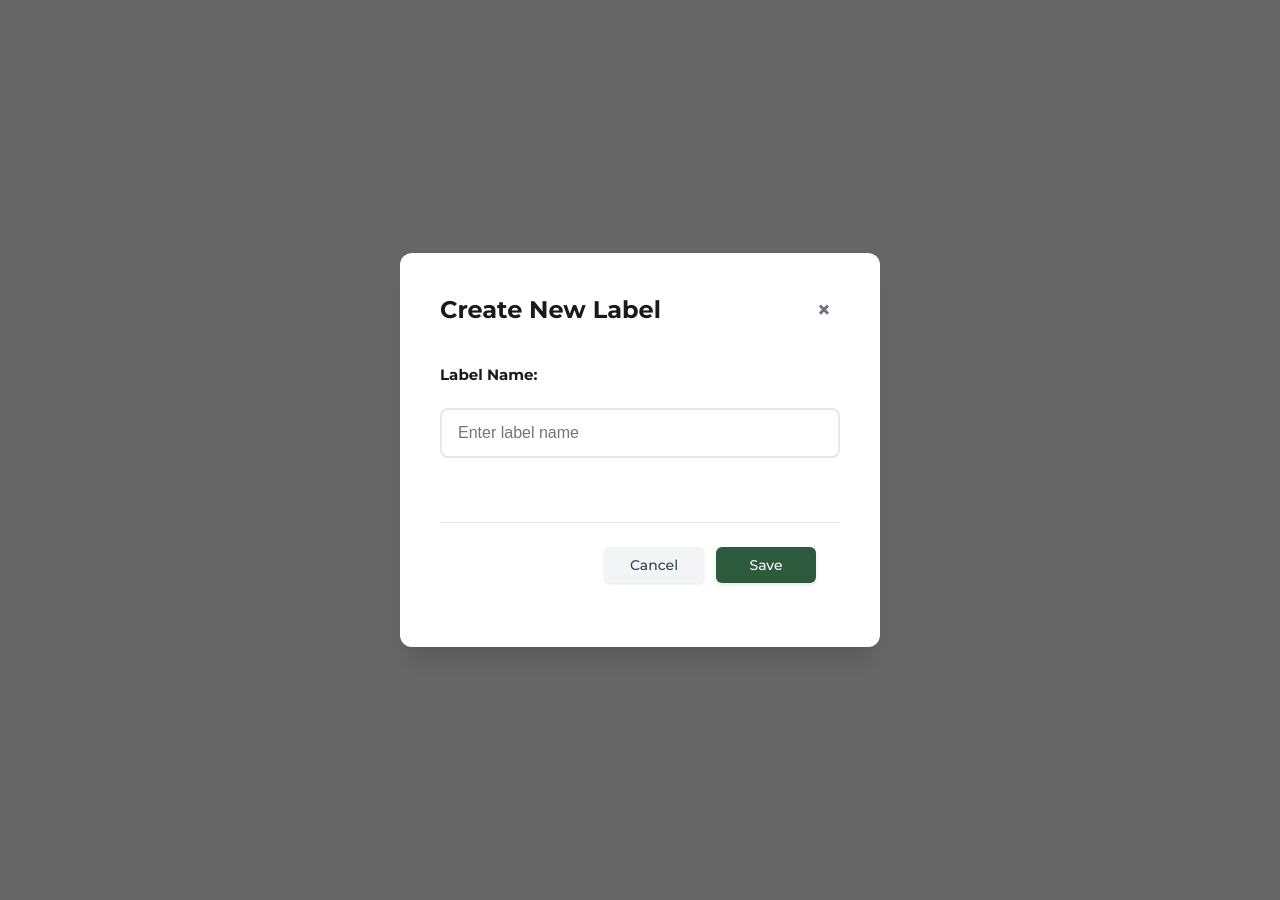
Test: LabelModal › limpa o erro ao digitar novo nome após erro
Click the button "Save" at (766, 565), box [716,547,816,583]
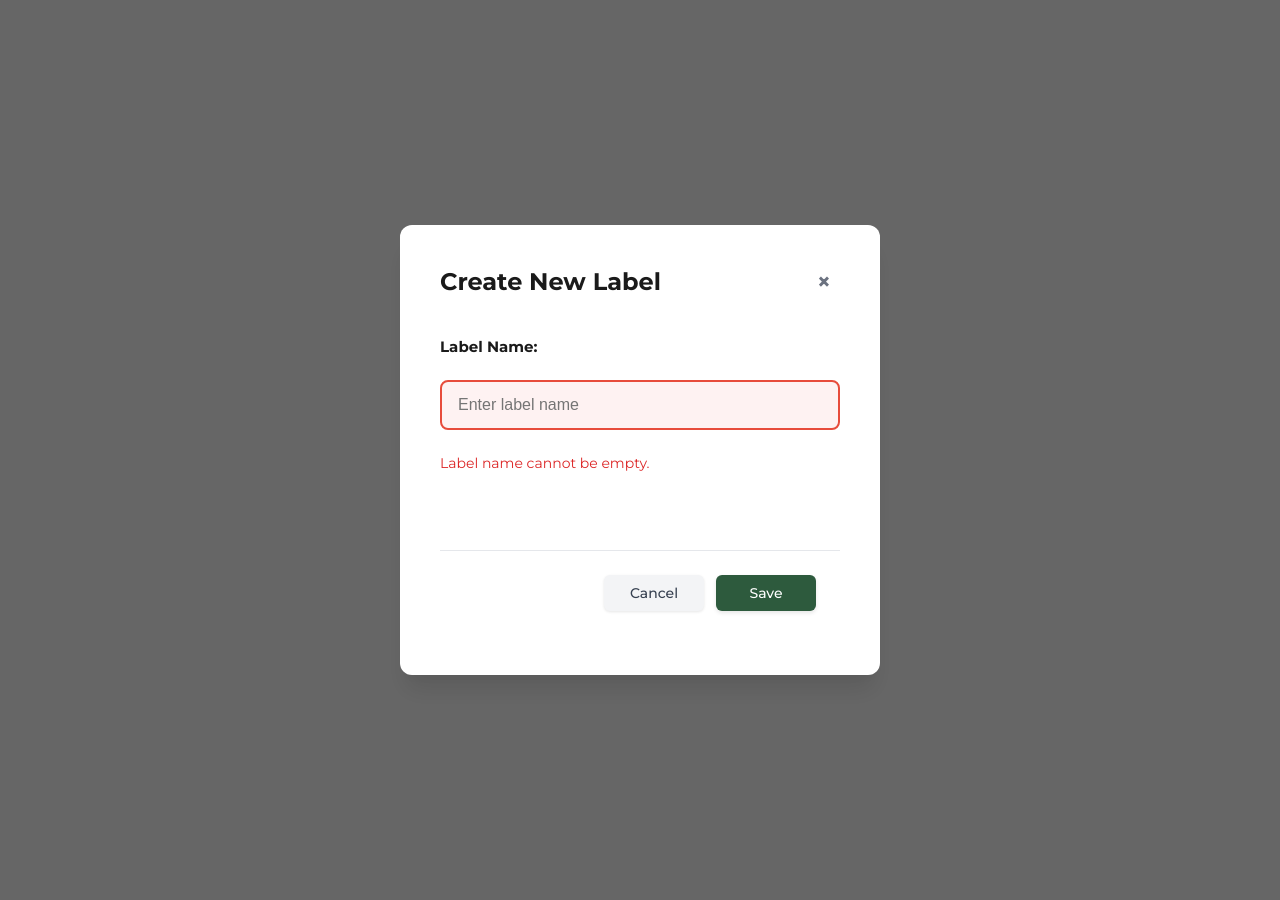
Expected: the text "Label name cannot be empty." is shown, [440,454,650,472]
Type "Label Válida" into the field with placeholder "Enter label name" at (640, 405), box [440,380,840,430]
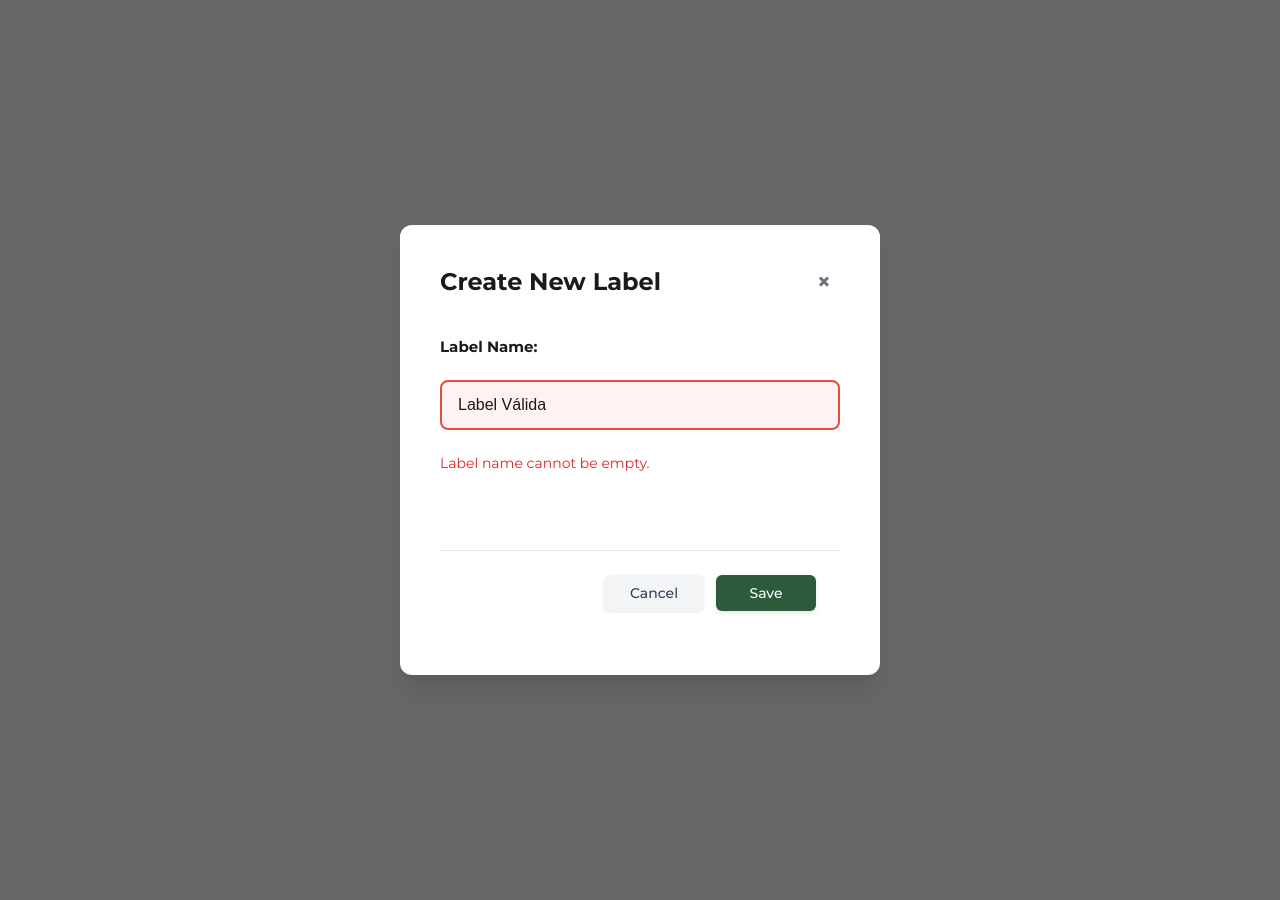
Click the button "Save" at (766, 593), box [716,575,816,611]
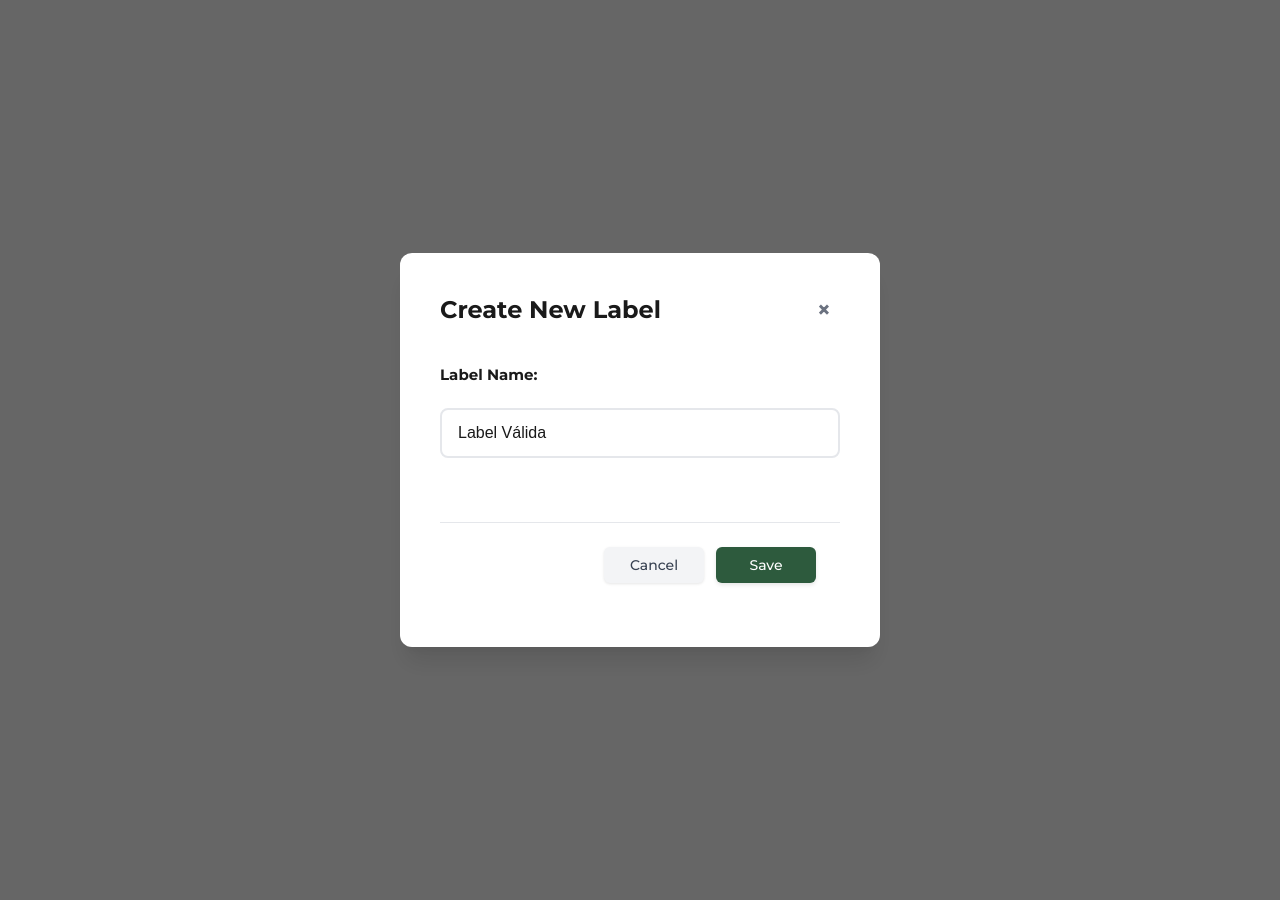
Expected: the text "Label name cannot be empty." is gone
